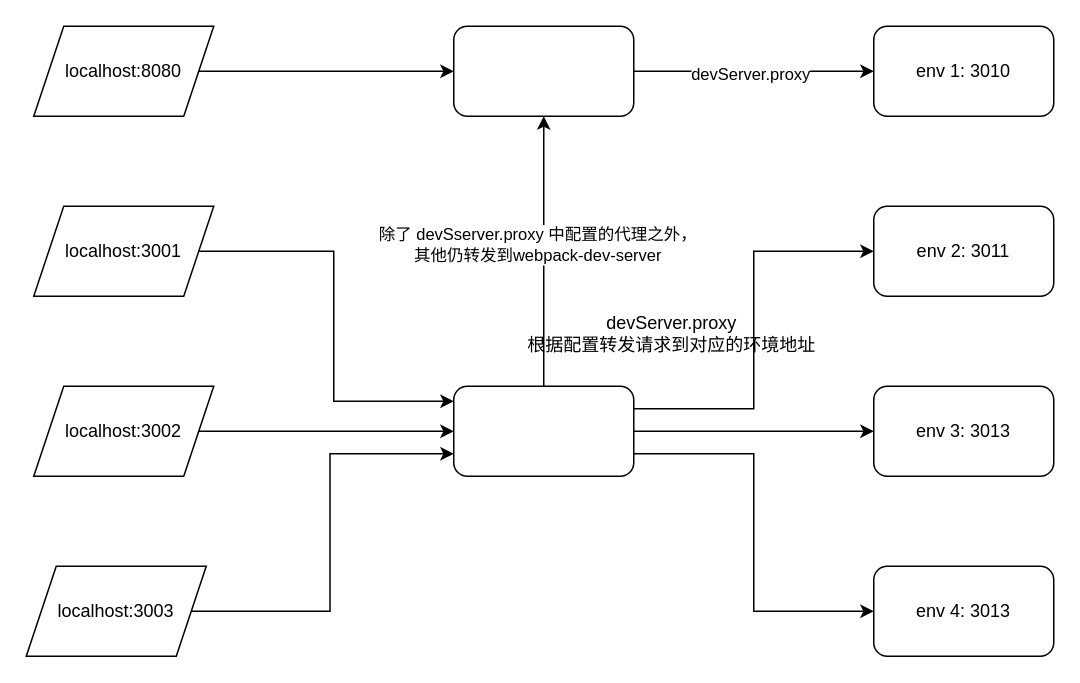
Some shapes in this 1080 by 683 pixel diagram are drawn without their labels. Each missing label, with the centre of its shape:
"env-manage-webpack-plugin" belongs at point (543, 430).
"webpack-dev-server" belongs at point (543, 70).
